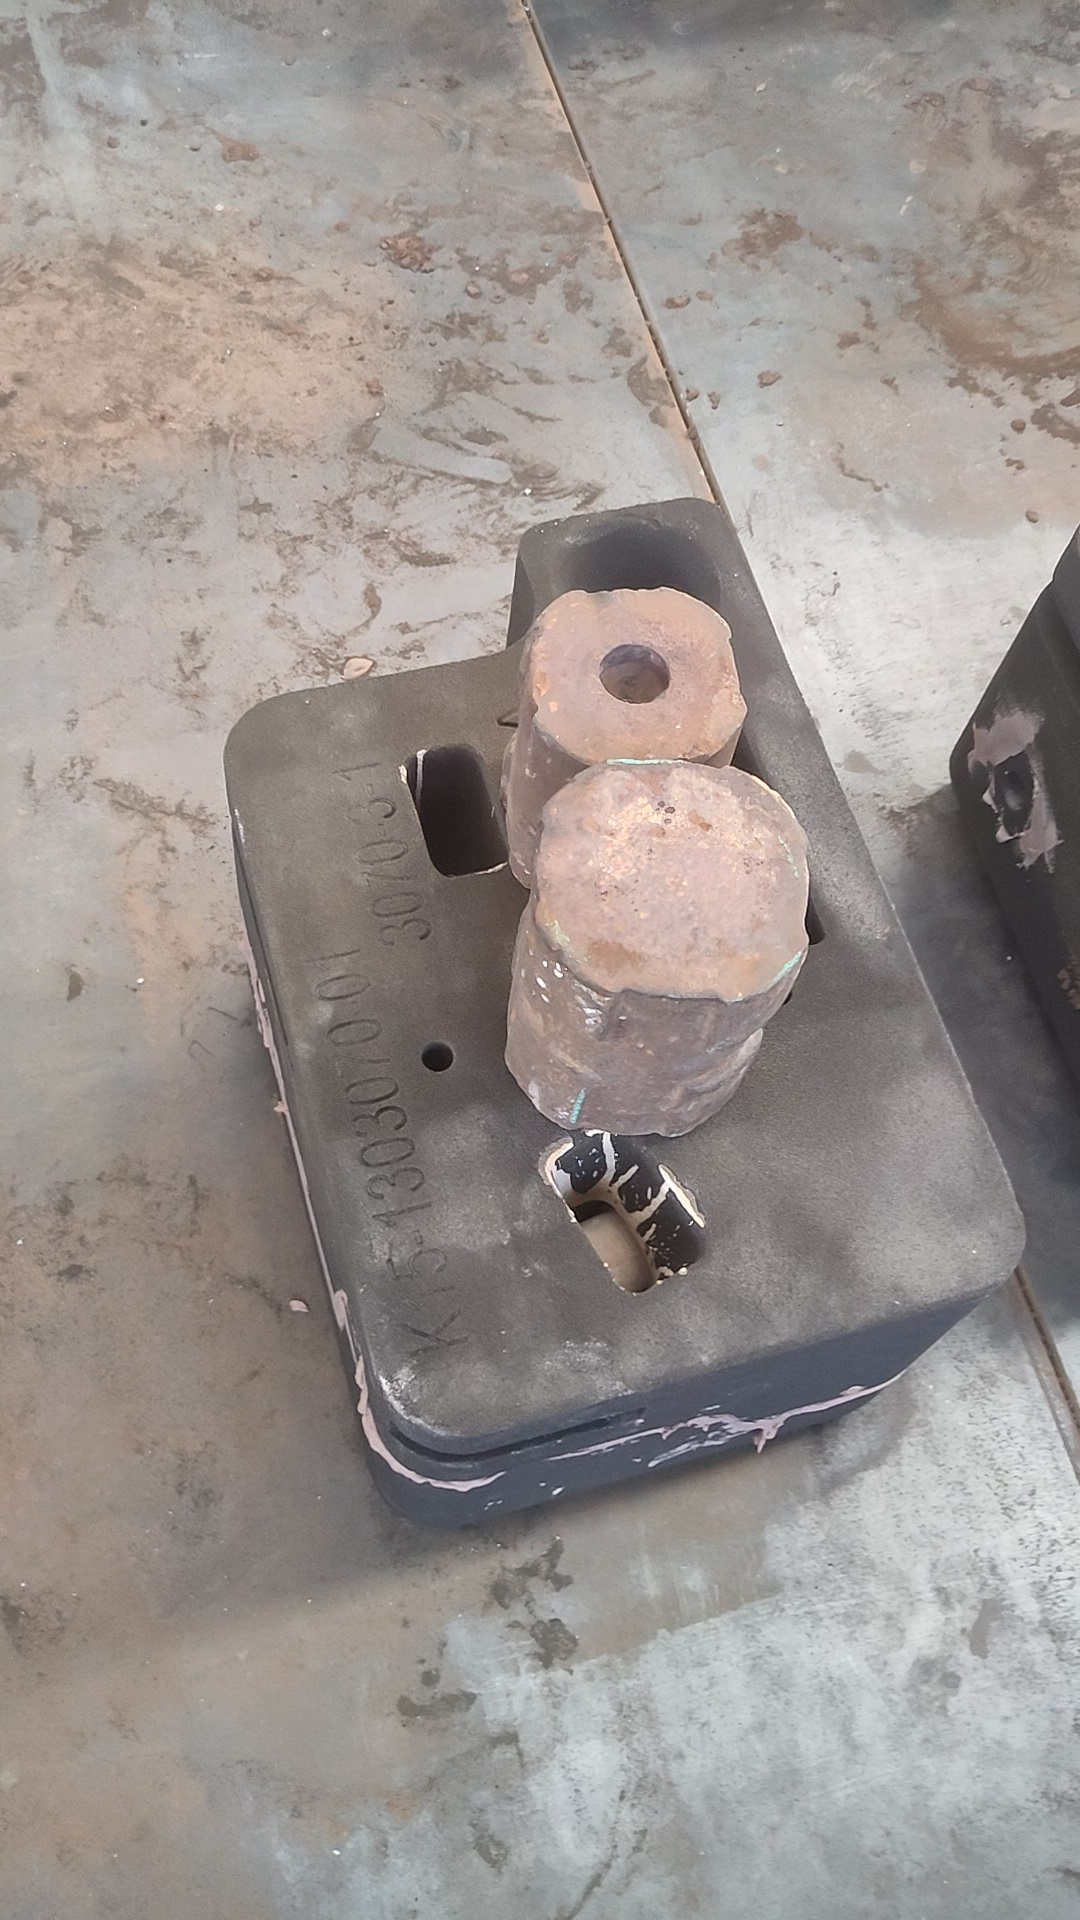pouring hole: (543, 516, 727, 636)
